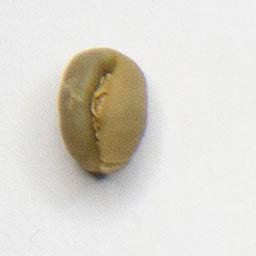peaberry: (52, 43, 152, 180)
